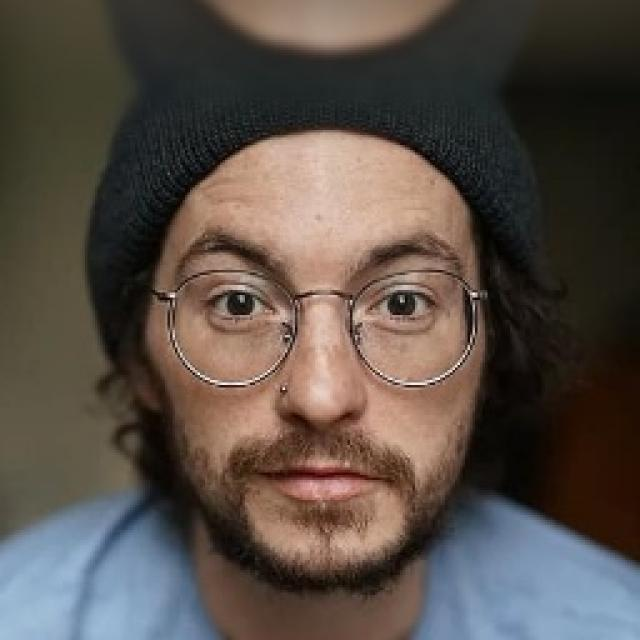glasses: (137, 251, 498, 399)
